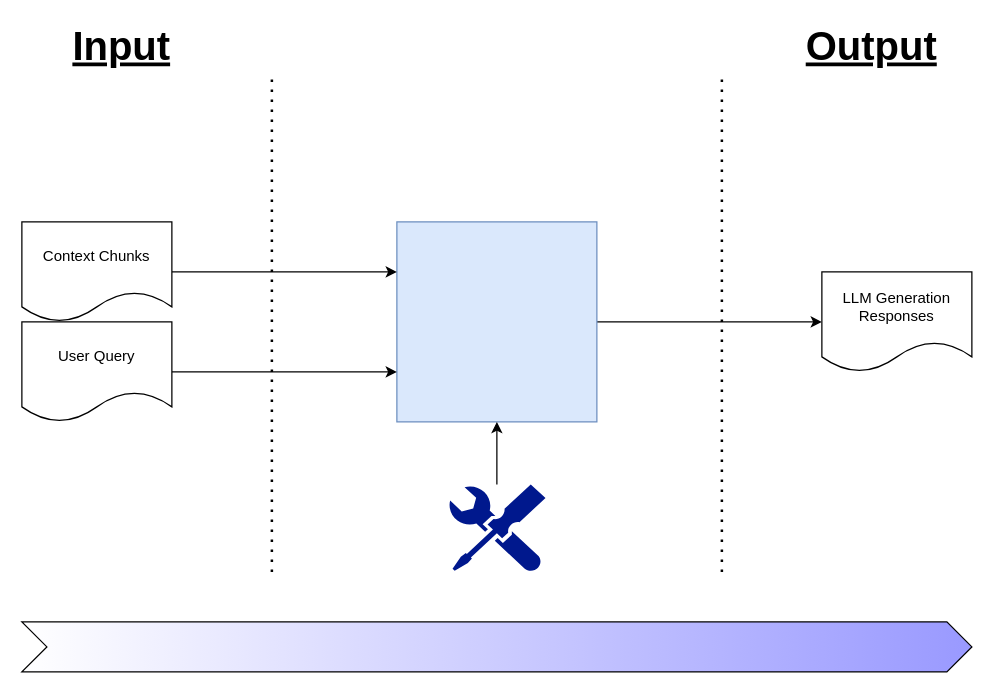
Some shapes in this 994 by 694 pixel diagram are drawn without their labels. Here are the shapes that lost their labels. From the top down, the centre of each, then its label:
At point (496, 321): "Core (LLM)".
At point (496, 646): "LLM Generation".
